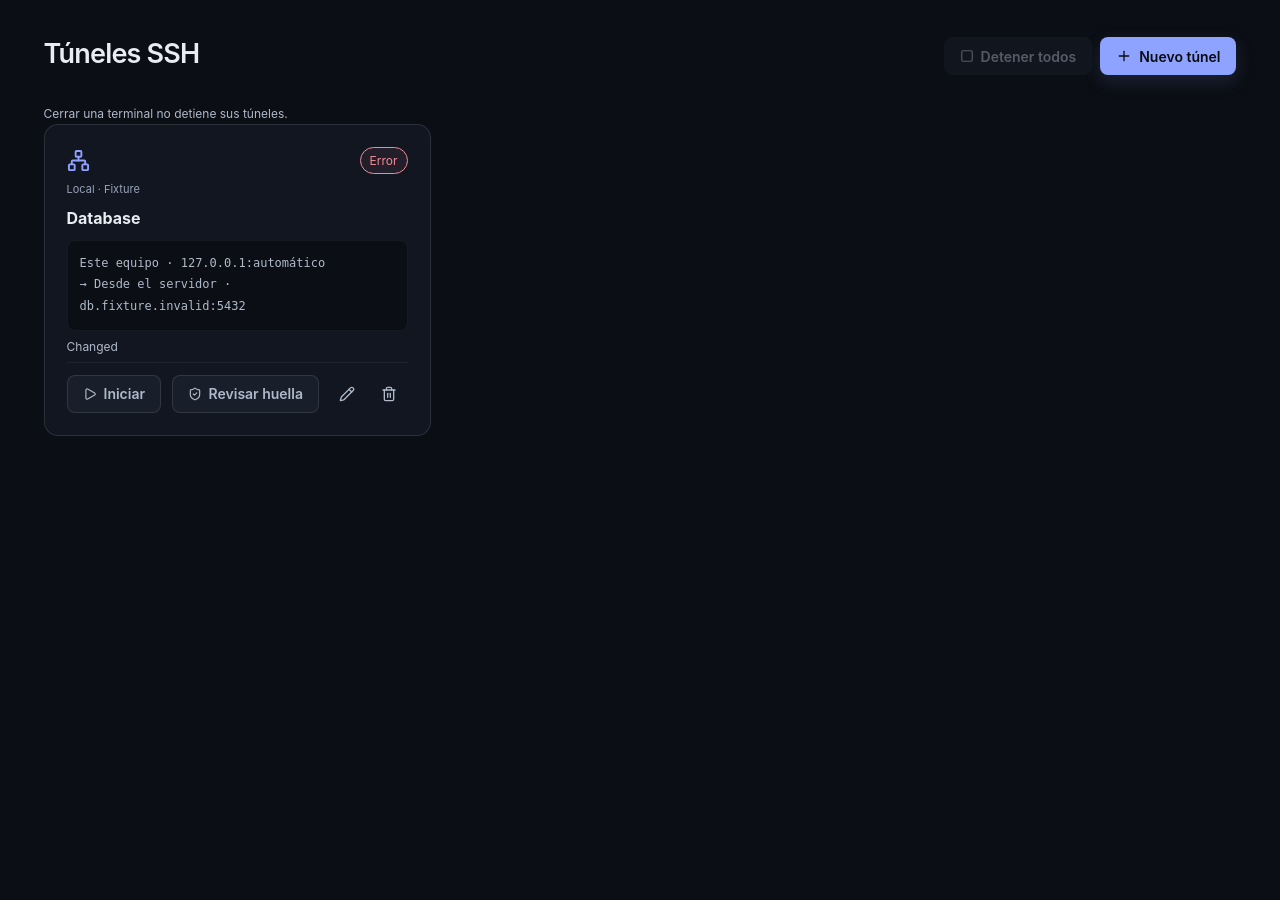
Test case: blocks changed fingerprints and retains the profile when stopping fails during deletion
Click the button "Revisar huella": (245, 394) [172,375,319,413]
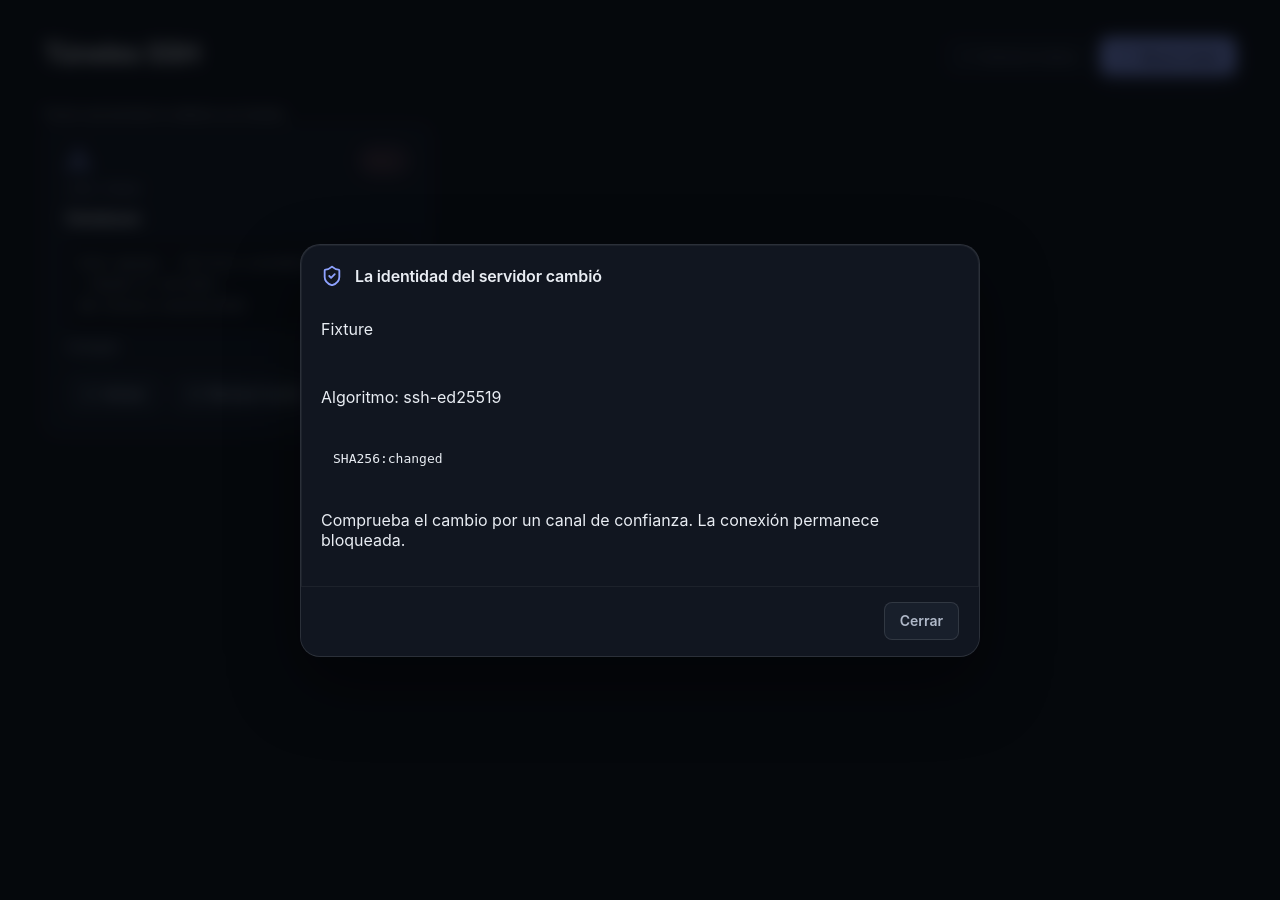
Click the button "Cerrar": (921, 620) [884,602,959,640]
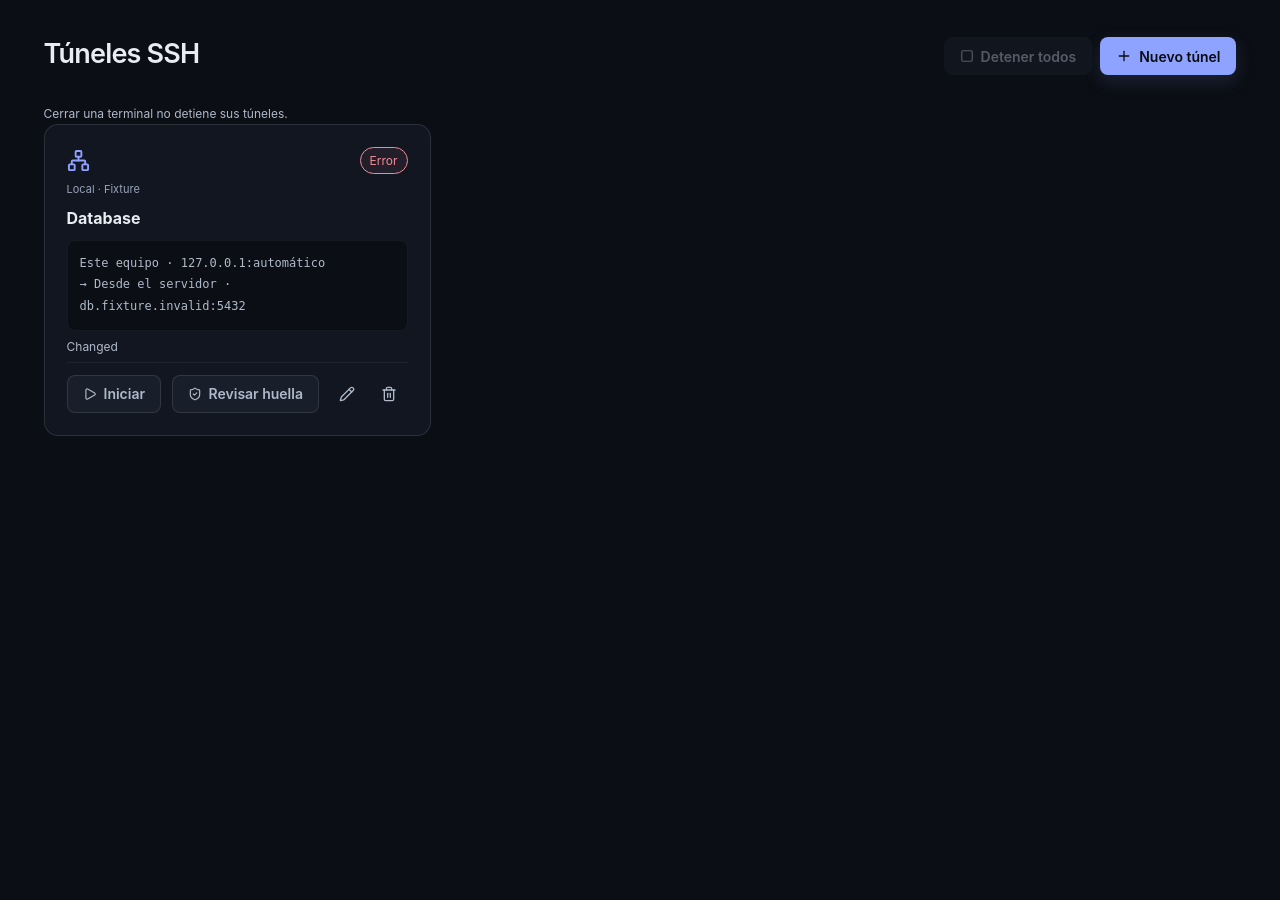
Click the button named "Eliminar túnel Database": (390, 394) [372,376,408,412]
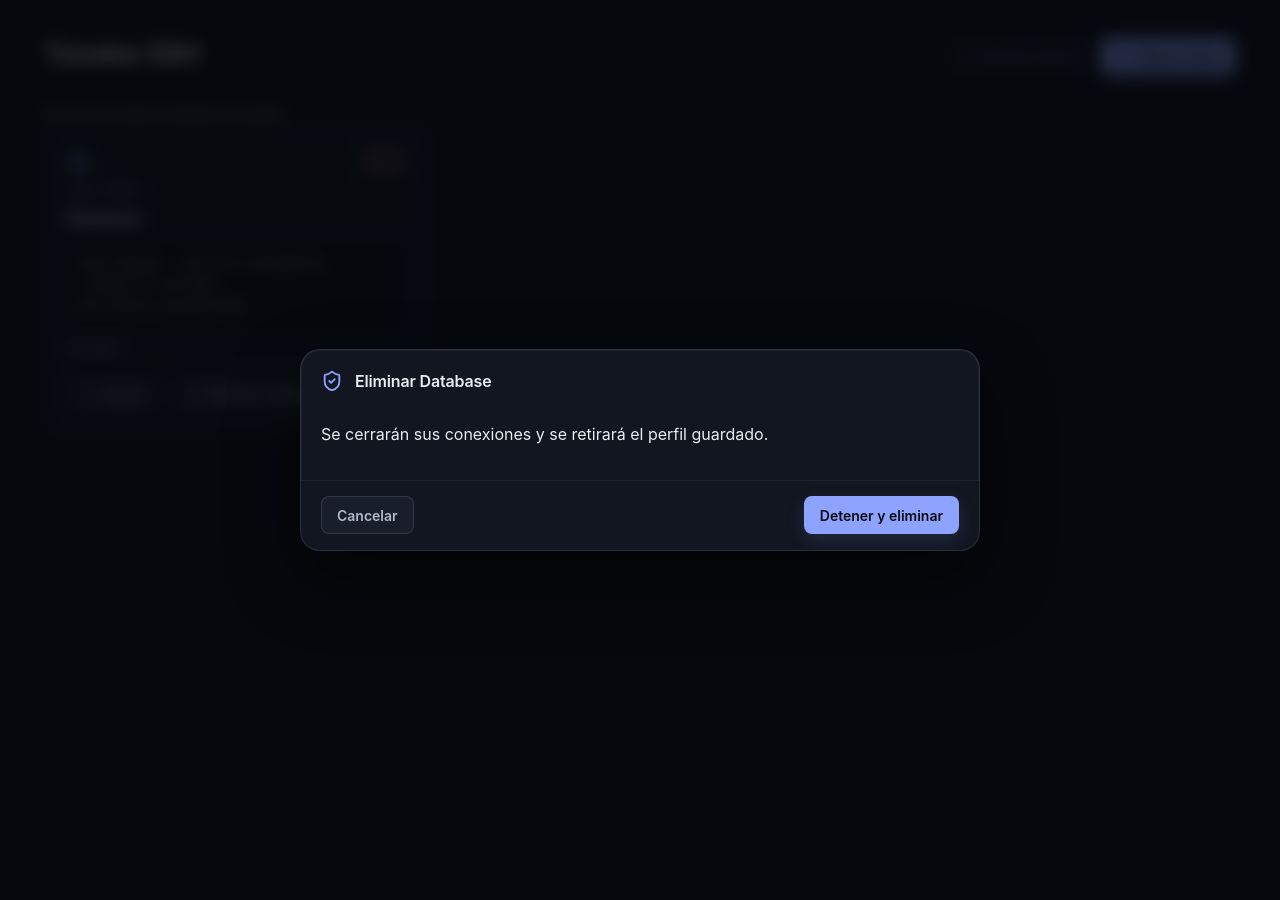
Click the button "Detener y eliminar": (881, 515) [804,496,959,534]
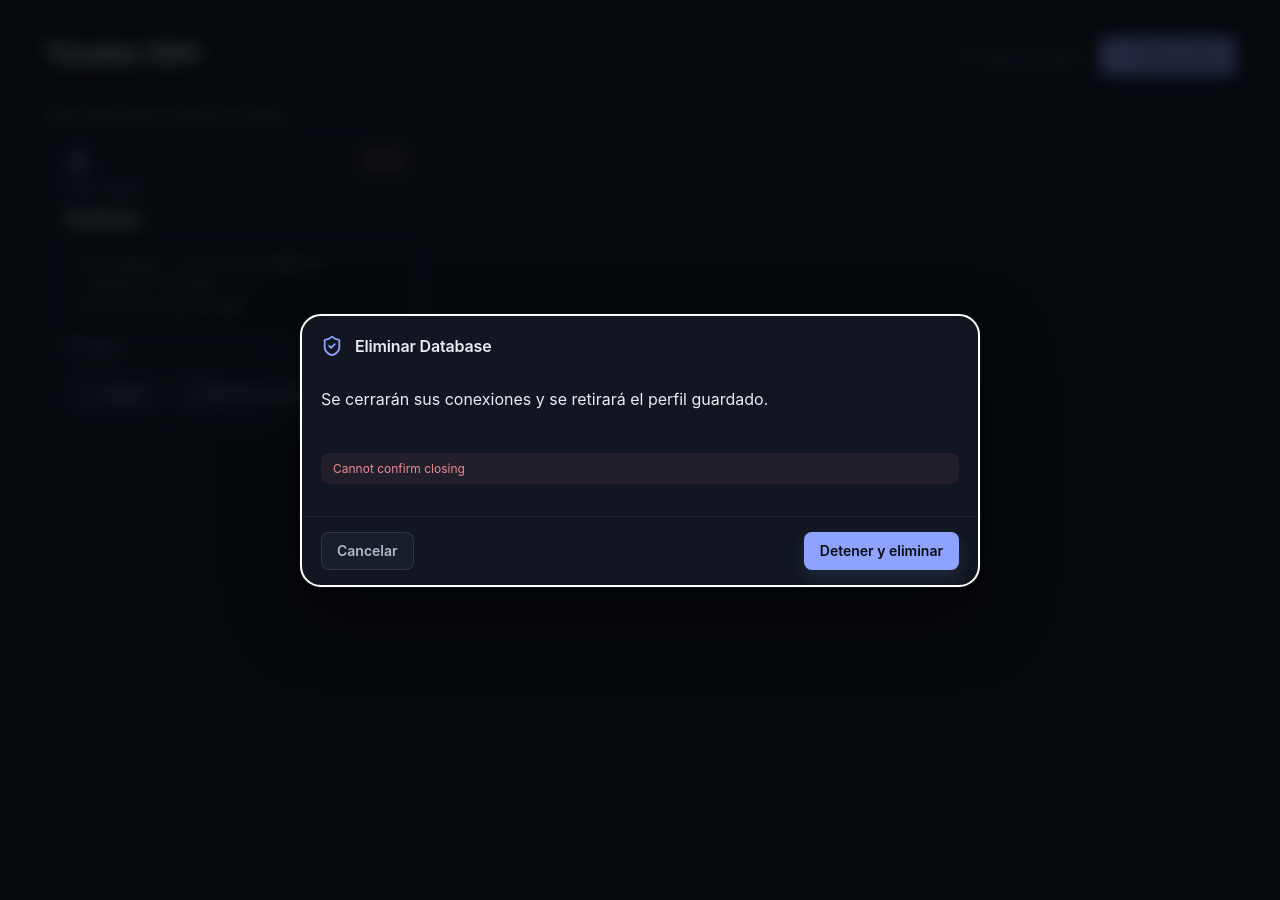
Now the message reads "Cannot confirm closing", box [333,460,465,476]
